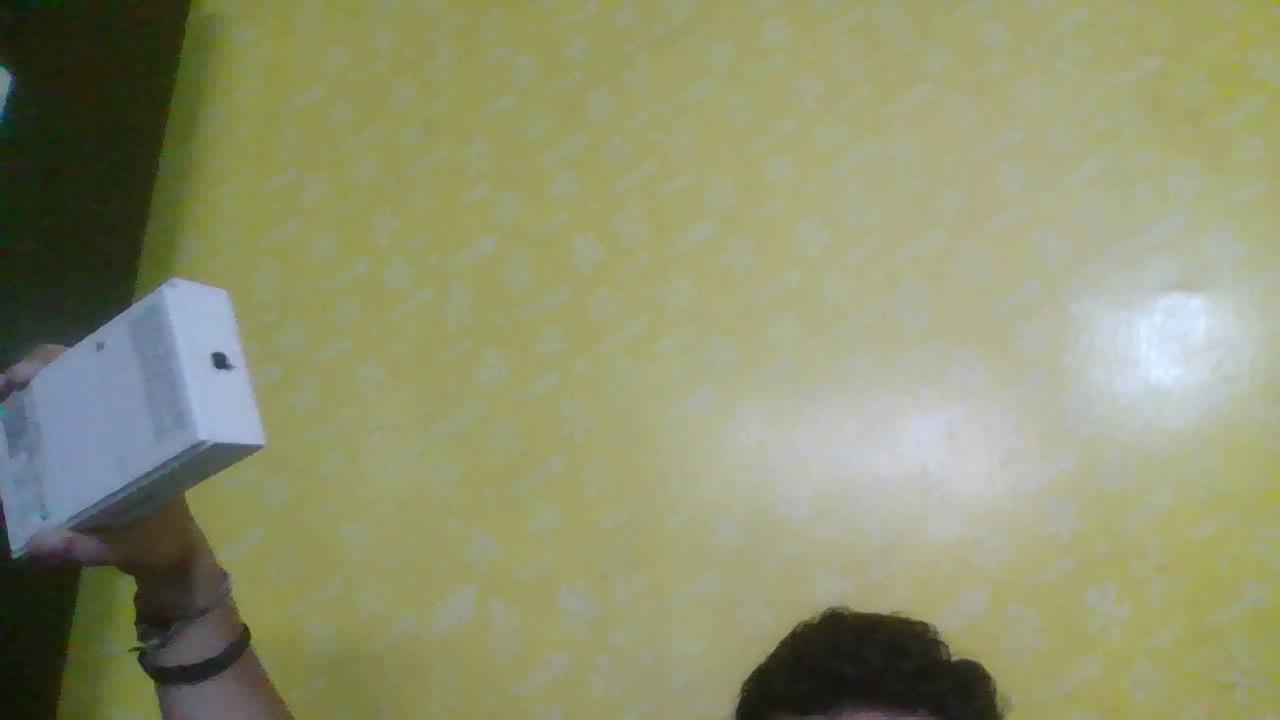Phone: (0, 263, 314, 596)
